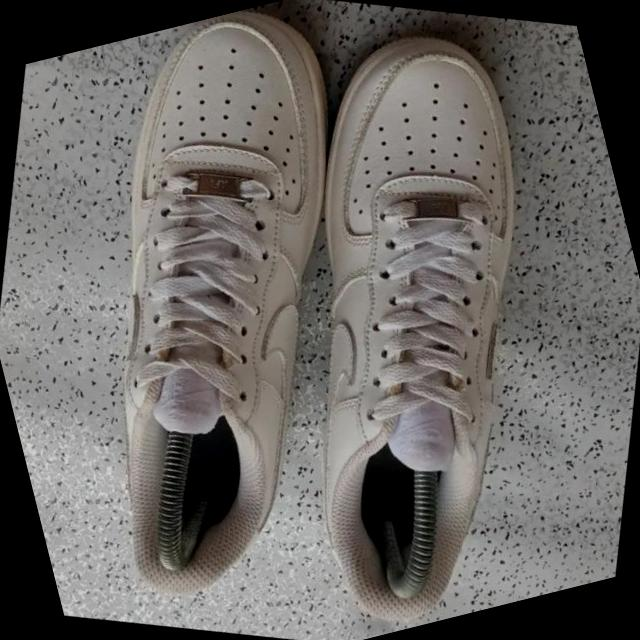nike_original_airforce: (135, 0, 640, 640), (0, 0, 486, 640)
